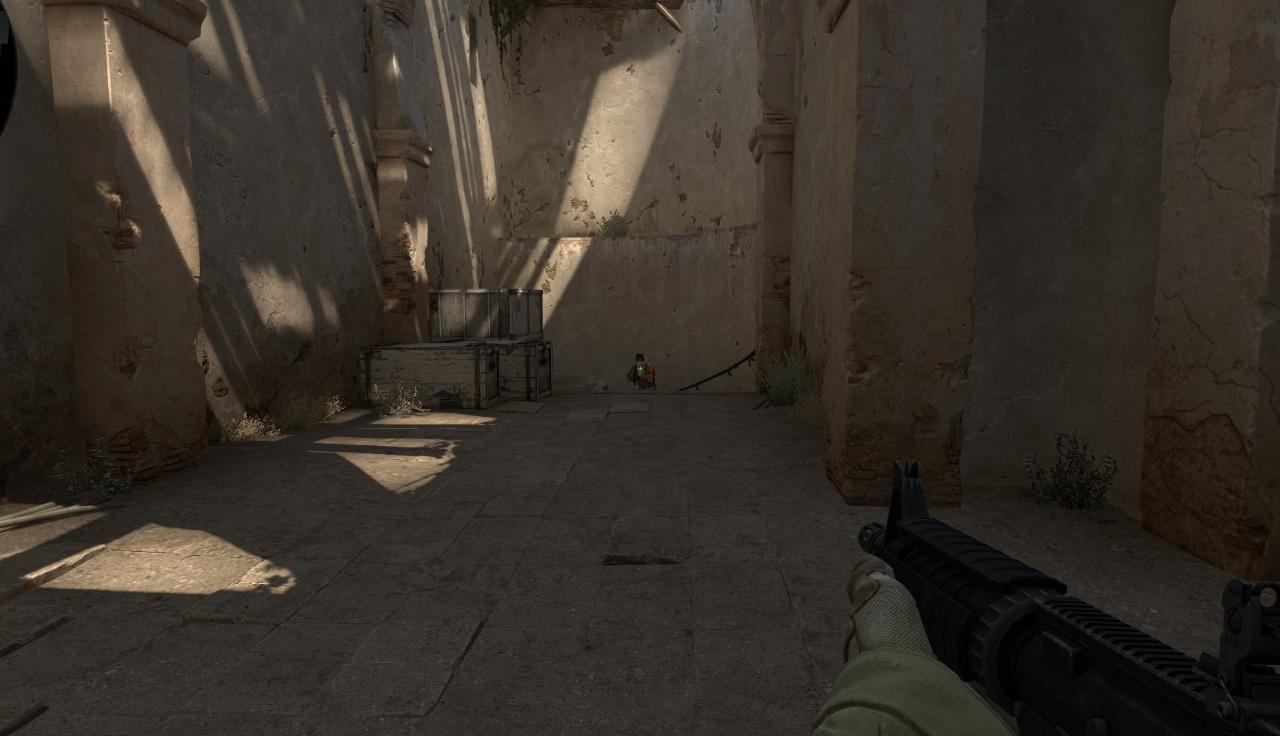rifle: (853, 466, 1280, 736)
tt: (630, 354, 655, 391)
tthead: (635, 354, 644, 366)
